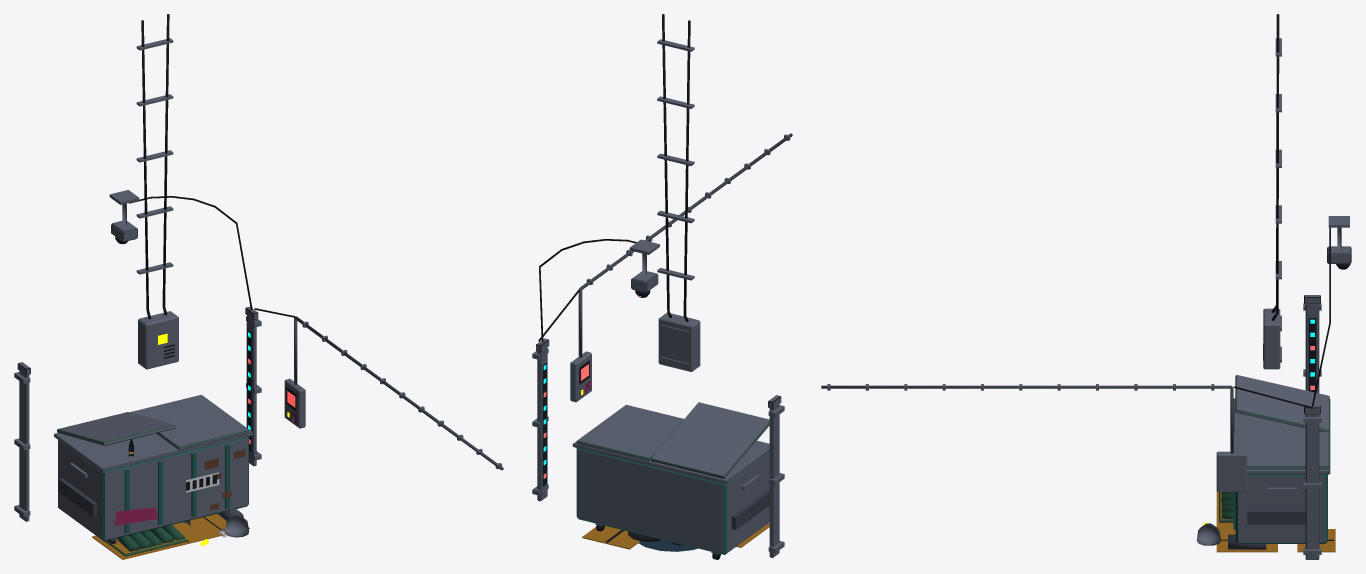
File: room-detail-brama-props.glb
3 views of the same model, side by side, from view 1: azimuth 30°, elevation 25°; view 2: azimuth 150°, elevation 25°; view 3: azimuth 270°, elevation 25° (orthographic). The views are drawn at different scales.
Visible parts, largest first — view 1: rd-bk-dumpster, rd-bk-scanner, rd-bk-neon-box, rd-bk-doorway; view 2: rd-bk-dumpster, rd-bk-scanner, rd-bk-neon-box, rd-bk-behind, rd-bk-grate; view 3: rd-bk-dumpster, rd-bk-scanner, rd-bk-neon-box, rd-bk-doorway.
Boxes of the visible parts, box(x1,y1,x2,y2) form: rd-bk-dumpster: box(54, 394, 252, 543); rd-bk-scanner: box(14, 190, 503, 521); rd-bk-neon-box: box(136, 14, 178, 369); rd-bk-doorway: box(92, 509, 249, 559); rd-bk-dumpster: box(572, 402, 769, 559); rd-bk-scanner: box(532, 133, 792, 557); rd-bk-neon-box: box(657, 14, 700, 371); rd-bk-behind: box(582, 526, 684, 549); rd-bk-grate: box(638, 539, 697, 551); rd-bk-dumpster: box(1233, 375, 1330, 543); rd-bk-scanner: box(821, 216, 1351, 559); rd-bk-neon-box: box(1263, 14, 1281, 369); rd-bk-doorway: box(1196, 491, 1277, 552).
Bounding box in the file's own units: 3.57 × 7.22 × 6.91.
1 material, 1 textured.
